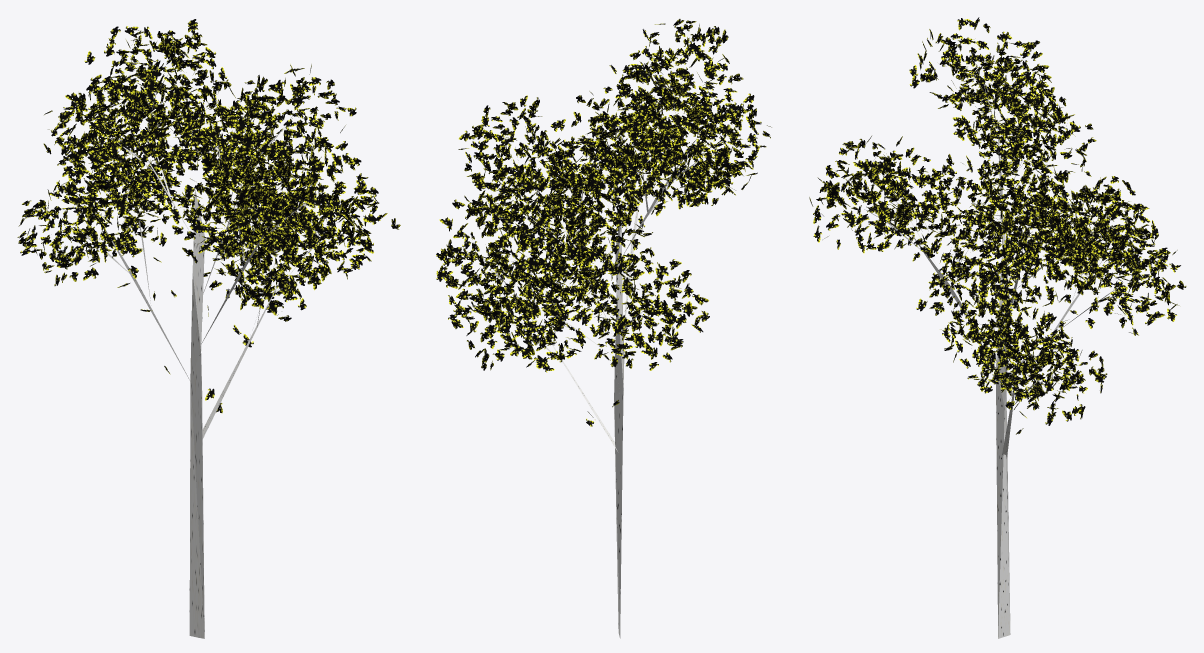
The model's file is birch_pale_v02_LOD1.fbx.
3 renders of one model, left to right at view 1: azimuth 30°, elevation 25°; view 2: azimuth 150°, elevation 25°; view 3: azimuth 270°, elevation 25°, orthographic. The views are drawn at different scales.
Visible parts, largest first — view 1: birch_pale_v02_LOD1; view 2: birch_pale_v02_LOD1; view 3: birch_pale_v02_LOD1.
Part boxes in pixels (x1=…): birch_pale_v02_LOD1: x1=17, y1=19, x2=400, y2=638; birch_pale_v02_LOD1: x1=436, y1=19, x2=771, y2=638; birch_pale_v02_LOD1: x1=809, y1=17, x2=1186, y2=638.
Bounding box in the file's own units: 1009 × 1079 × 1845.
2 materials, 2 textured.
